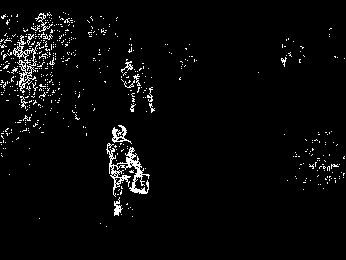person: (104, 123, 152, 216)
